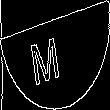M_N: (38, 25, 72, 85)
